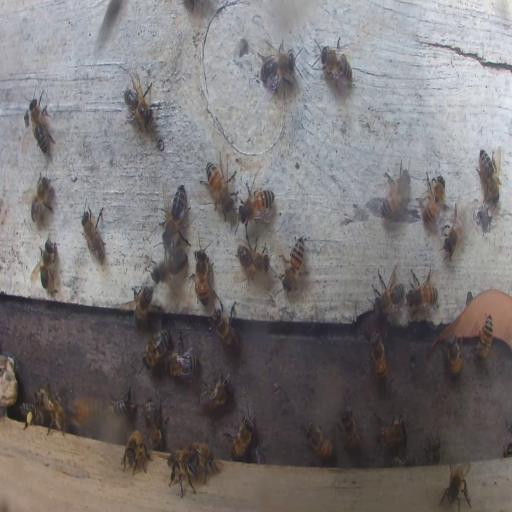bee: (258, 40, 298, 95), (317, 35, 352, 93), (439, 458, 473, 512), (372, 265, 406, 318), (205, 155, 235, 214), (122, 78, 154, 131), (80, 201, 106, 265), (26, 93, 52, 156), (380, 164, 410, 218), (476, 147, 502, 209), (151, 241, 186, 286), (417, 172, 446, 225), (238, 185, 277, 224), (33, 234, 58, 294), (167, 449, 199, 495), (406, 270, 438, 316), (37, 382, 66, 432), (164, 184, 188, 244), (236, 238, 270, 280), (122, 428, 152, 474), (441, 203, 465, 260), (283, 234, 306, 292), (374, 410, 407, 449), (199, 370, 231, 410), (212, 303, 238, 352), (226, 415, 254, 460), (305, 421, 334, 463), (142, 329, 171, 369), (192, 244, 210, 308), (31, 172, 54, 221), (338, 408, 362, 454), (145, 396, 165, 449), (184, 443, 216, 475), (166, 347, 199, 377), (369, 330, 387, 384), (133, 284, 155, 325), (108, 385, 136, 416), (476, 315, 493, 361), (445, 335, 462, 378), (426, 429, 442, 461), (18, 400, 38, 424), (390, 450, 417, 465), (249, 446, 266, 464)
